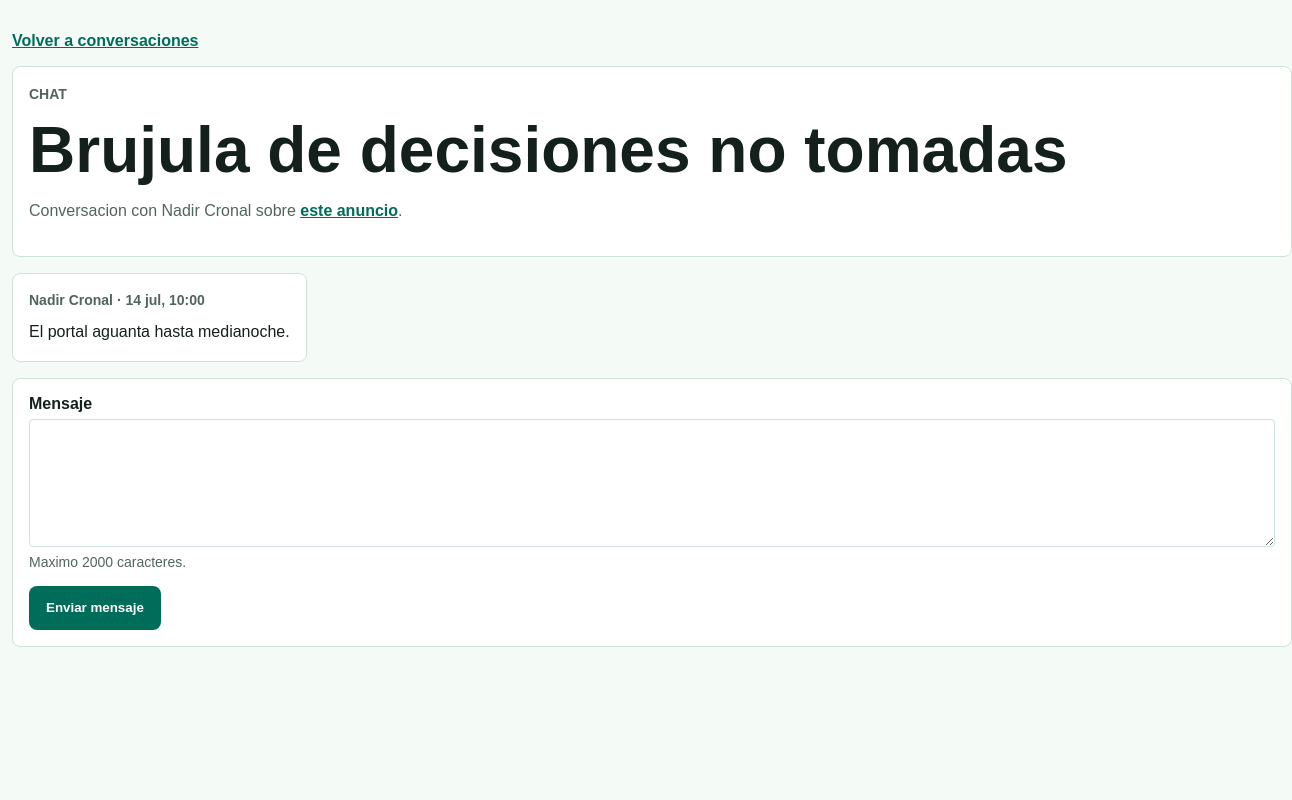
Test: ConversationThread › loads messages and sends a new one with the authenticated token
Expected: the heading "Brujula de decisiones no tomadas" is shown, [29, 114, 1068, 186]
Expected: the text "El portal aguanta hasta medianoche." is shown, [29, 320, 290, 345]
Type "Perfecto, llego con una jaula temporal." into the text box labelled "Mensaje" at coordinates (652, 483), box [29, 419, 1275, 547]
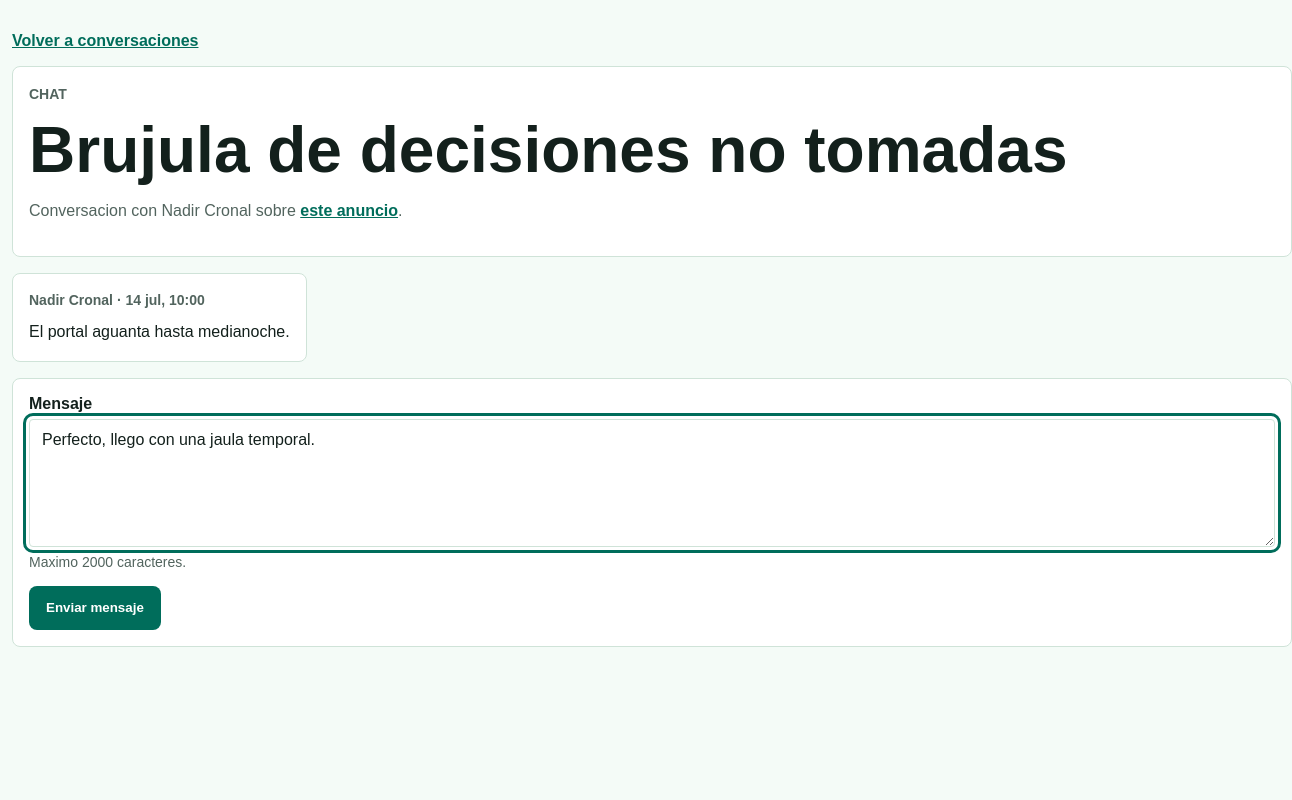
Click the button "Enviar mensaje" at coordinates (95, 608), box [29, 586, 161, 630]
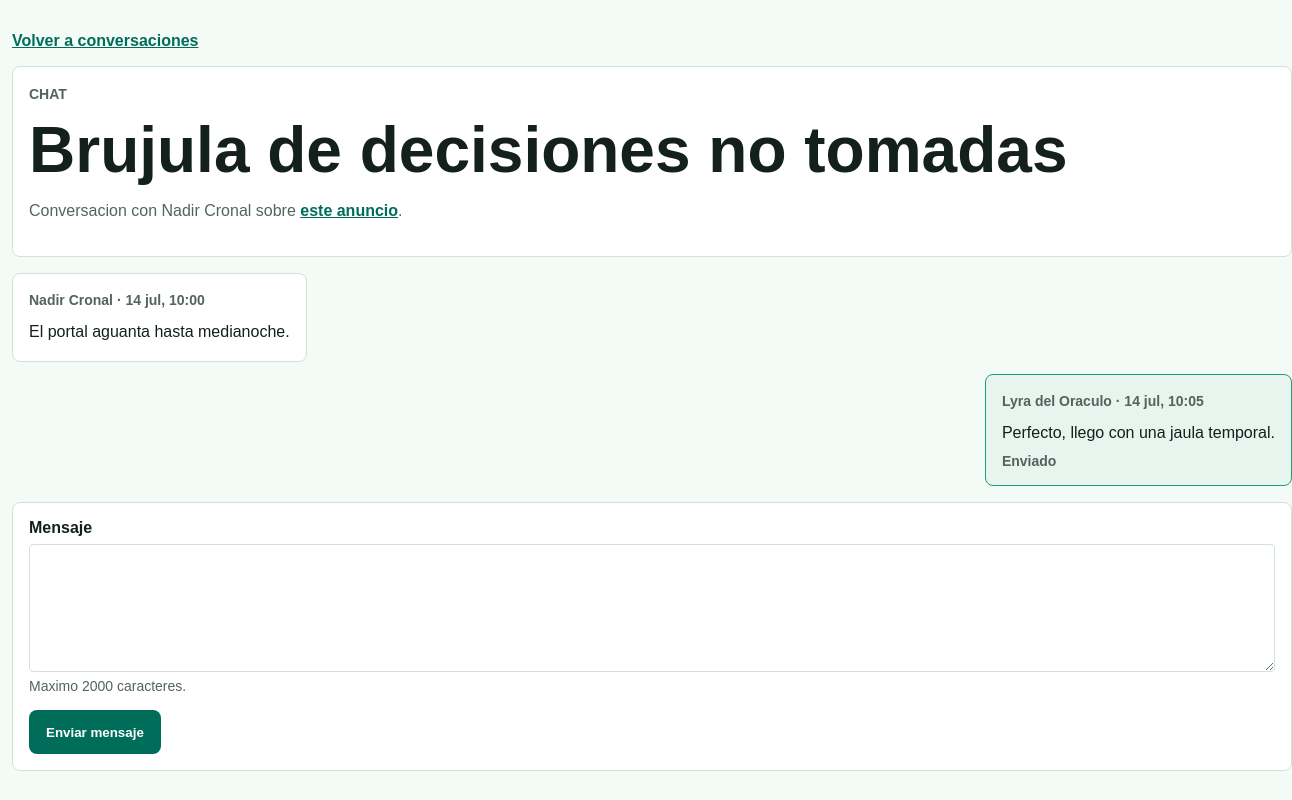
Result: the text "Perfecto, llego con una jaula temporal." is shown at [1002, 421, 1275, 446]
